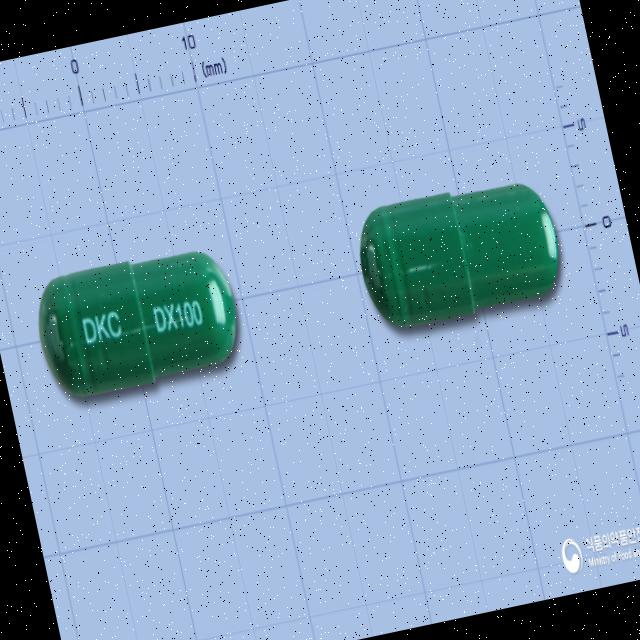Doxiramycin Cap: (349, 168, 572, 340), (27, 238, 249, 406)
